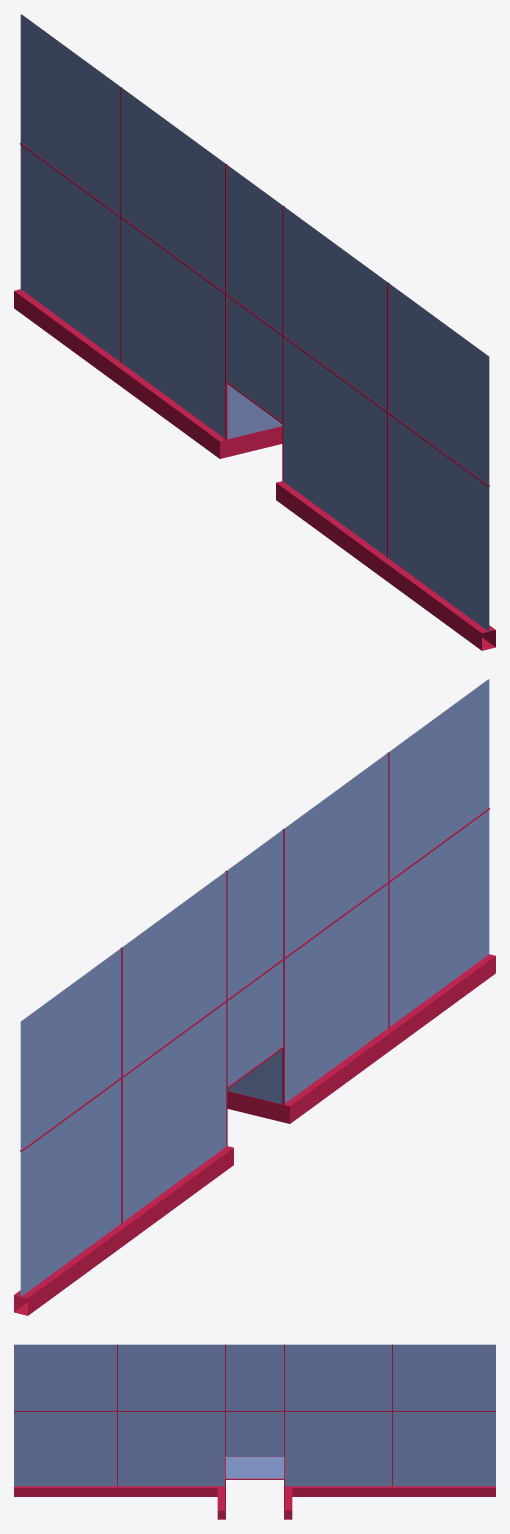
Rendered from geo_shopFront1.fbx.
The picture shows the model from 3 angles, top to bottom: view 1: azimuth 30°, elevation 25°; view 2: azimuth 150°, elevation 25°; view 3: azimuth 270°, elevation 25°; orthographic projection. The views are drawn at different scales.
Visible parts, largest first — view 1: geo_shopFront1; view 2: geo_shopFront1; view 3: geo_shopFront1.
Part boxes in pixels (x1=…): geo_shopFront1: x1=14, y1=14, x2=495, y2=650; geo_shopFront1: x1=14, y1=679, x2=495, y2=1315; geo_shopFront1: x1=14, y1=1344, x2=495, y2=1519.
Bounding box in the file's own units: 370 × 1000 × 2900.
